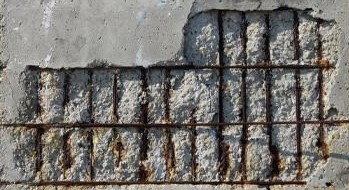Exposed reinforcement: (27, 63, 335, 73), (263, 10, 280, 179), (1, 119, 349, 127), (1, 179, 307, 187), (217, 9, 229, 180), (291, 10, 303, 173), (238, 10, 248, 180), (163, 68, 176, 180), (315, 19, 326, 148), (139, 68, 150, 182), (34, 72, 45, 175), (86, 69, 95, 181), (61, 71, 71, 171), (112, 73, 122, 168), (189, 108, 199, 181)
Spalling: (1, 4, 349, 190)
